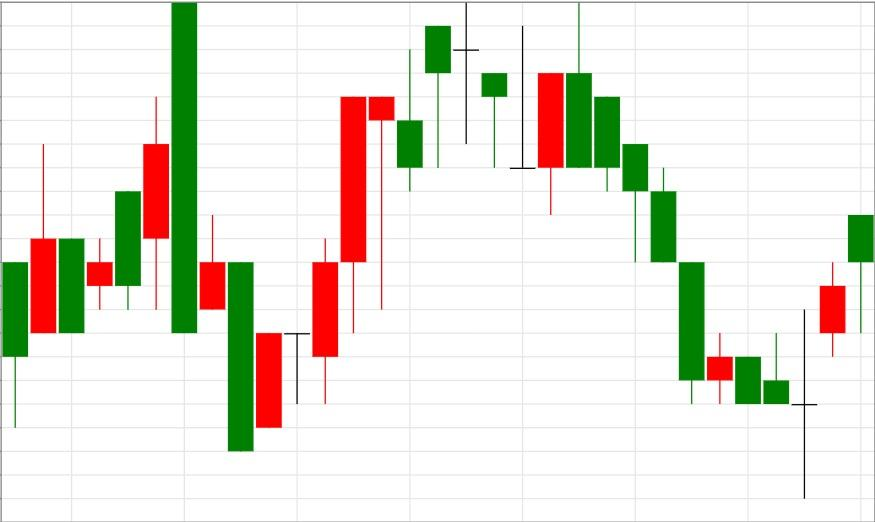bearish_engulfing_fall: (0, 2, 198, 427)
hanging_man_fall: (227, 26, 452, 452)
